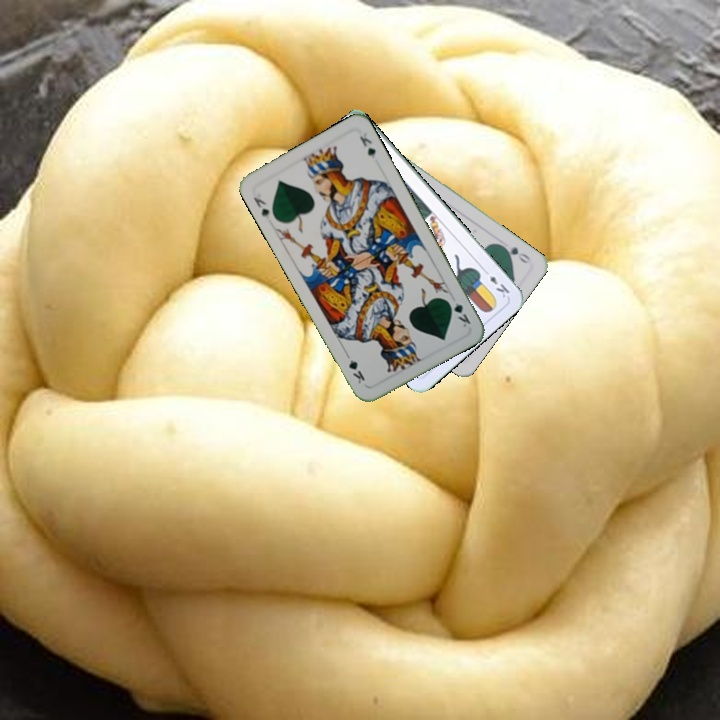EK: (479, 265, 512, 301)
GK: (443, 296, 473, 330), (249, 190, 272, 222)
GO: (496, 241, 533, 266)
